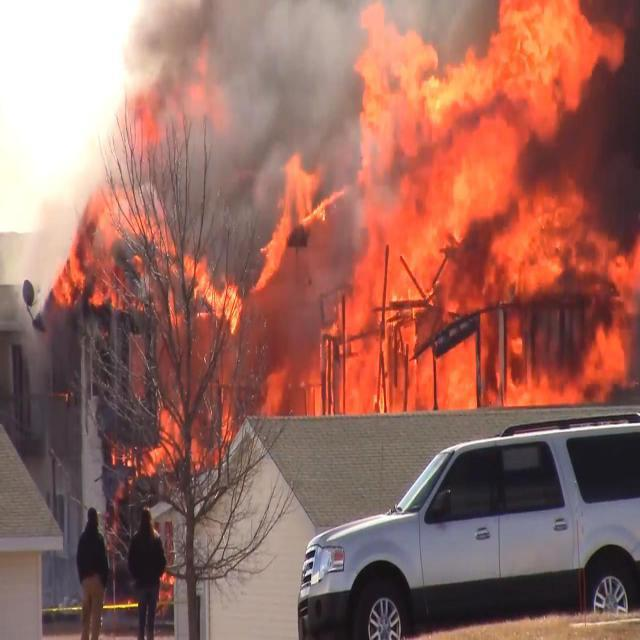Fire: (74, 1, 636, 463)
